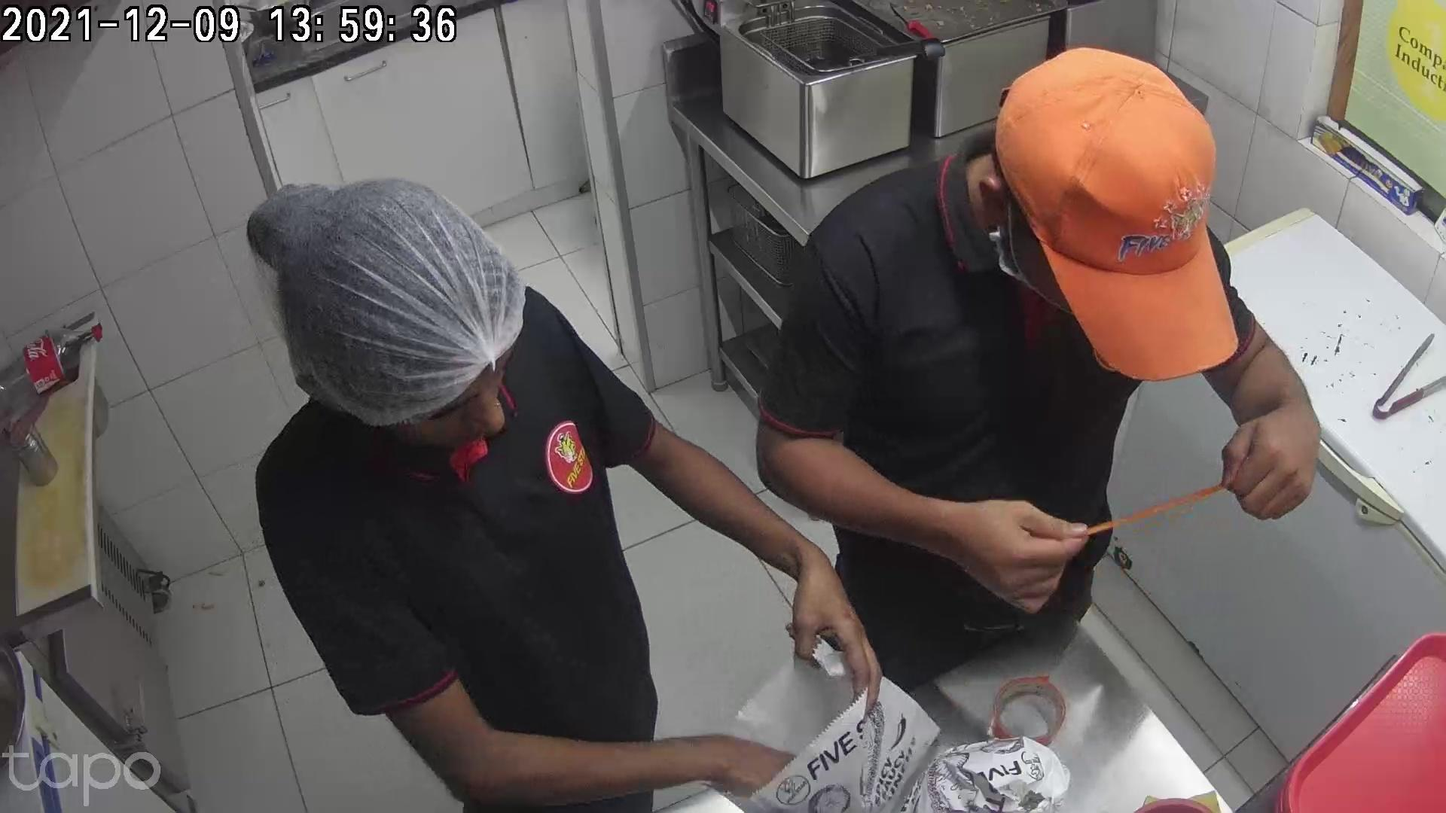no_gloves: (920, 498, 1082, 613)
